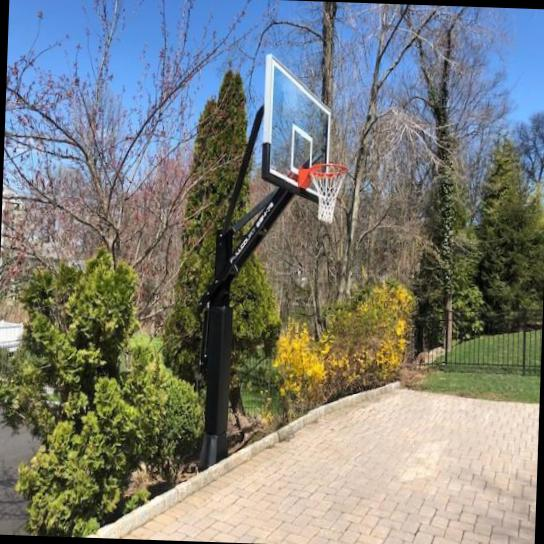basketball-hoop: (308, 160, 351, 224)
